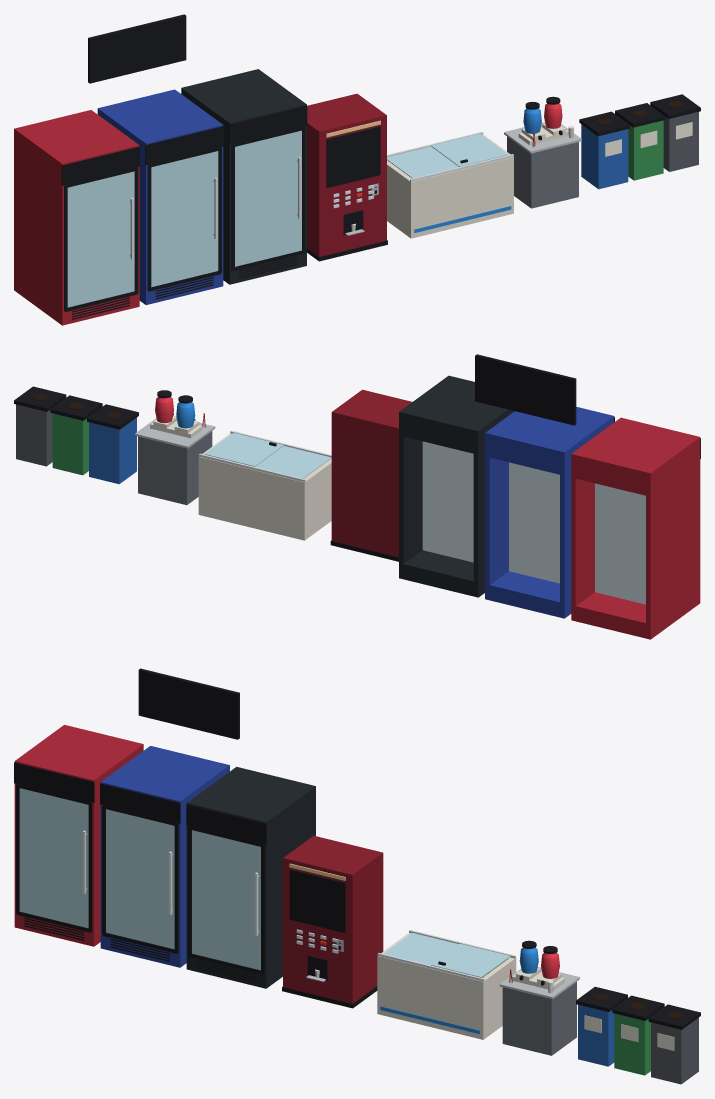
Rendered from food-corner-drinks.glb.
3 renders of one model, top to bottom at view 1: azimuth 30°, elevation 25°; view 2: azimuth 150°, elevation 25°; view 3: azimuth 330°, elevation 25°, orthographic. The views are drawn at different scales.
Parts seen in each view (by area): view 1: vend108, fridgeRed0, glass62, glass26, glass98, white131, fridgeRed2, black240, fridgeBlack74, fridgeBlue38, steelDark200, black109 (+26 smaller); view 2: vend108, fridgeRed0, white131, fridgeRed2, glowCold76, glowCold4, glowCold40, black240, fridgeBlack74, fridgeBlue38, steelDark200, fridgeRed1 (+17 smaller); view 3: vend108, glass26, glass62, glass98, white131, black240, fridgeBlack74, fridgeBlack73, steelDark200, fridgeRed2, fridgeBlue38, black109 (+19 smaller).
Boxes of the visible parts, x1,y1,x2,y2 form: vend108: (307,93,386,256); fridgeRed0: (14,128,66,325); glass62: (151,151,218,287); glass26: (67,171,134,307); glass98: (235,130,301,266); white131: (387,134,513,238); fridgeRed2: (14,110,139,186); black240: (88,14,186,83); fridgeBlack74: (181,69,306,144); fridgeBlue38: (98,89,221,166); steelDark200: (507,136,578,208); black109: (326,126,380,188); vend108: (331,389,411,557); fridgeRed0: (646,436,700,639); white131: (198,433,331,540); fridgeRed2: (571,417,699,495); glowCold76: (422,441,473,562); glowCold4: (595,483,645,604); glowCold40: (509,462,559,583); black240: (475,354,576,425); fridgeBlack74: (399,376,512,453); fridgeBlue38: (485,407,613,474); steelDark200: (138,431,212,505); fridgeRed1: (571,418,624,620); vend108: (283,835,383,1003); glass26: (19,788,88,928); glass62: (106,809,174,949); glass98: (192,830,260,970); white131: (377,933,516,1039); black240: (138,668,239,739); fridgeBlack74: (186,767,315,845); fridgeBlack73: (261,785,315,988); steelDark200: (502,982,576,1055); fridgeRed2: (14,725,143,791); fridgeBlue38: (101,746,229,824); black109: (289,869,345,932).
Size of the model in its own units: 10 by 3.48 by 1.35.
